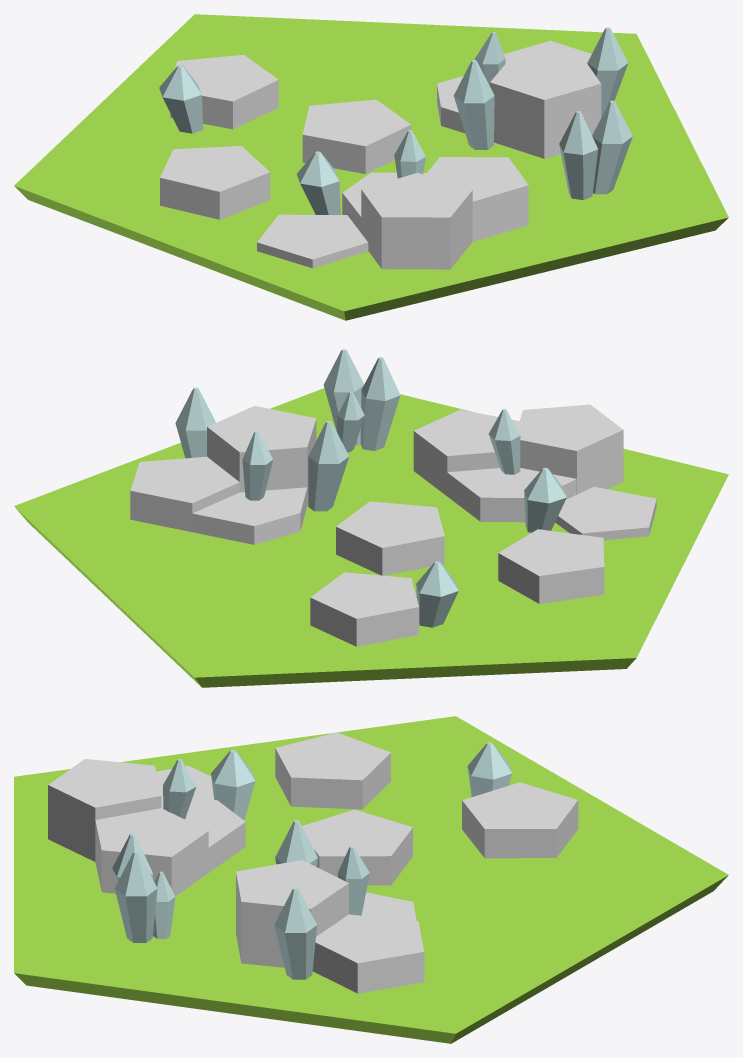
The model's file is RockTilesCrystal_white.fbx.
The picture shows the model from 3 angles, top to bottom: view 1: azimuth 30°, elevation 25°; view 2: azimuth 150°, elevation 25°; view 3: azimuth 270°, elevation 25°; orthographic projection. The views are drawn at different scales.
Visible parts, largest first — view 1: origine.001; view 2: origine.001; view 3: origine.001.
Part boxes in pixels (x1,y1,x2,y2): origine.001: (14,14,728,320); origine.001: (14,349,728,687); origine.001: (14,716,728,1043).
Size of the model in its own units: 111 by 17.46 by 105.
